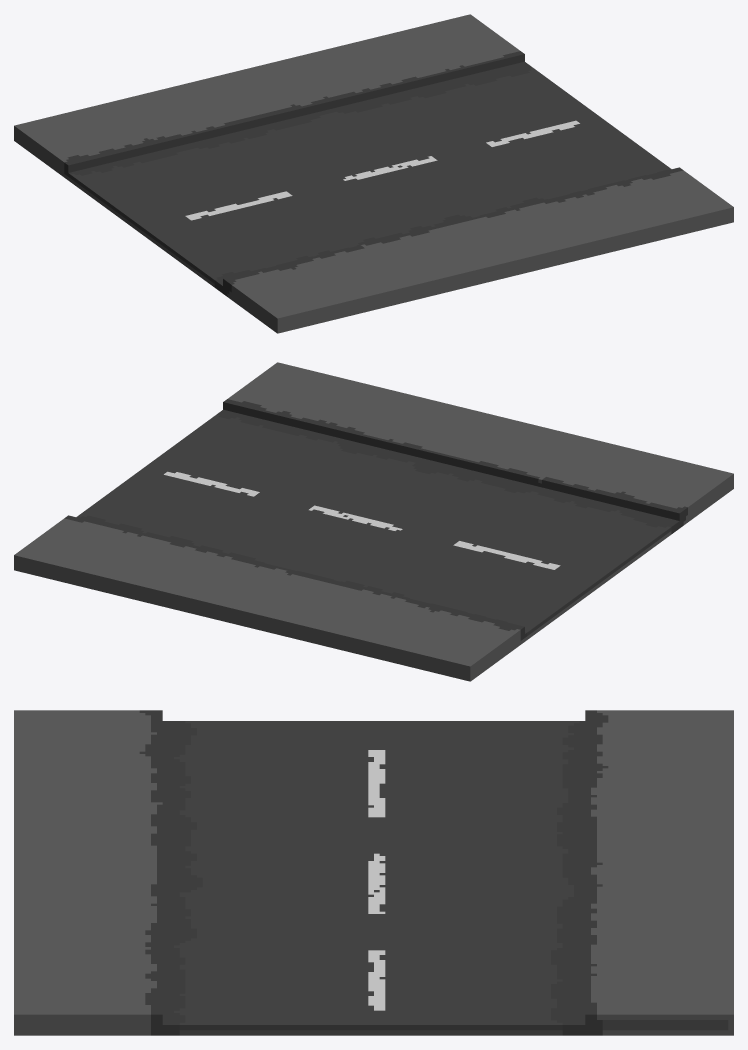
The model's file is Road-4.obj.
The picture shows the model from 3 angles, top to bottom: view 1: azimuth 30°, elevation 25°; view 2: azimuth 150°, elevation 25°; view 3: azimuth 270°, elevation 25°; orthographic projection. The views are drawn at different scales.
Size of the model in its own units: 12.6 by 0.4 by 12.6.
Materials: 1 (1 with a texture image).
